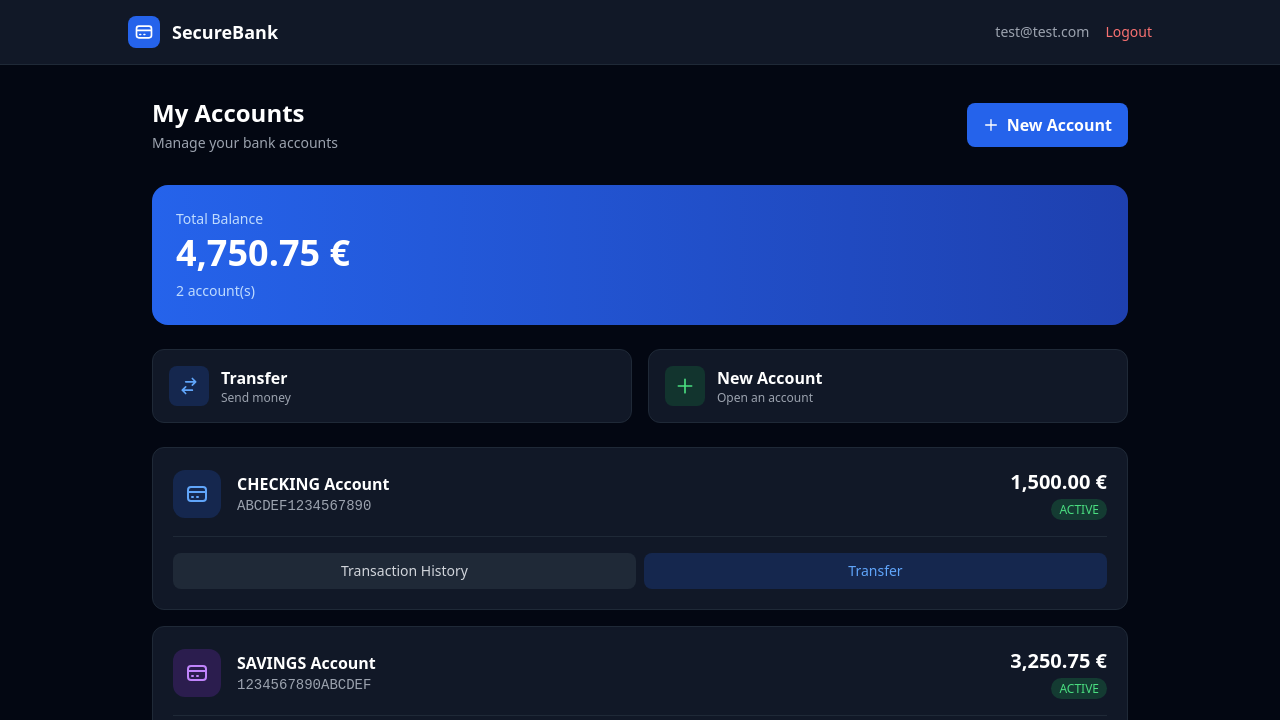
Test case: Dashboard › opens the new account modal when the button is clicked
Click the button with test id "new-account-btn".
click(1048, 125)  # box [967, 103, 1128, 147]
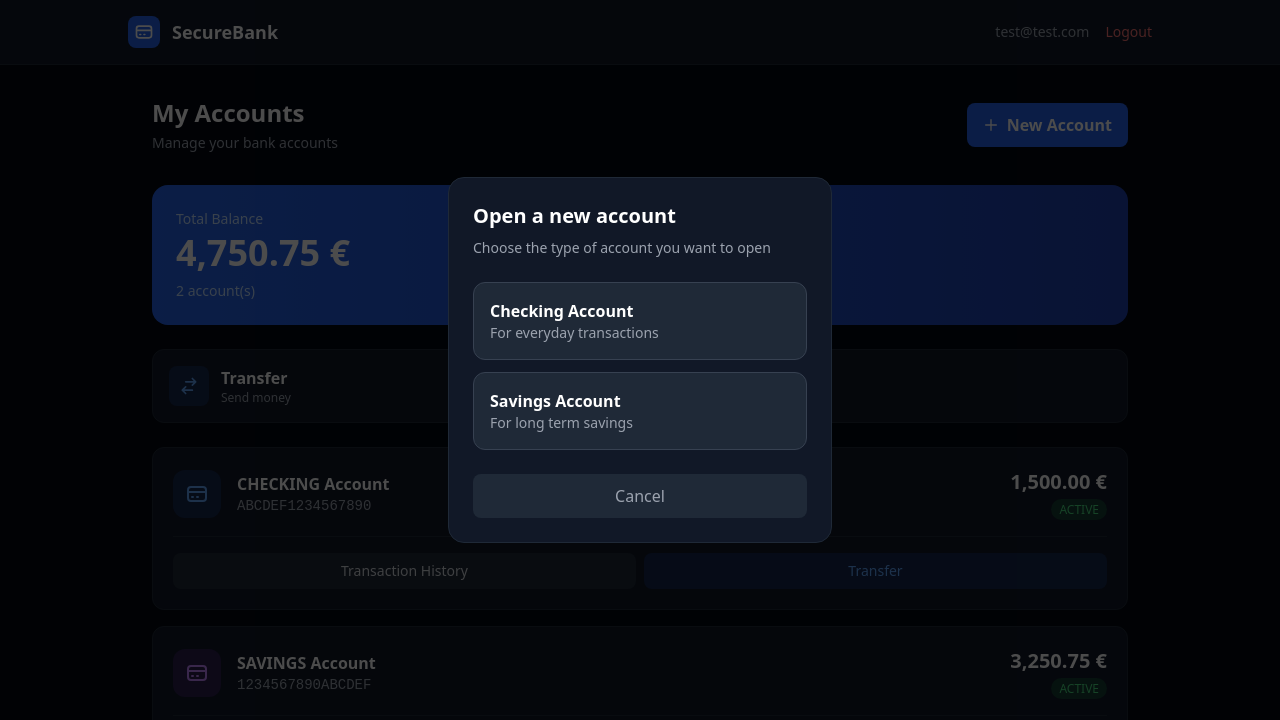
Expected: the element with test id "new-account-modal" is shown
